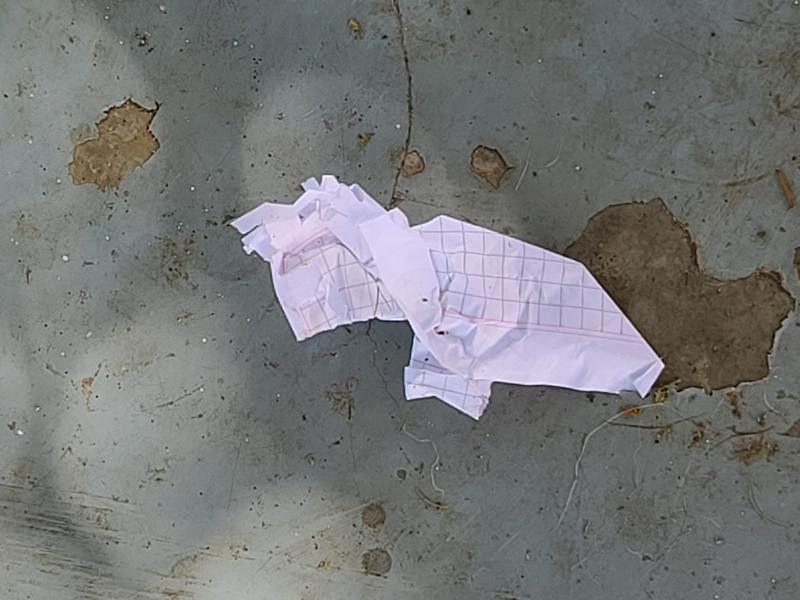papel: (233, 176, 664, 421)
